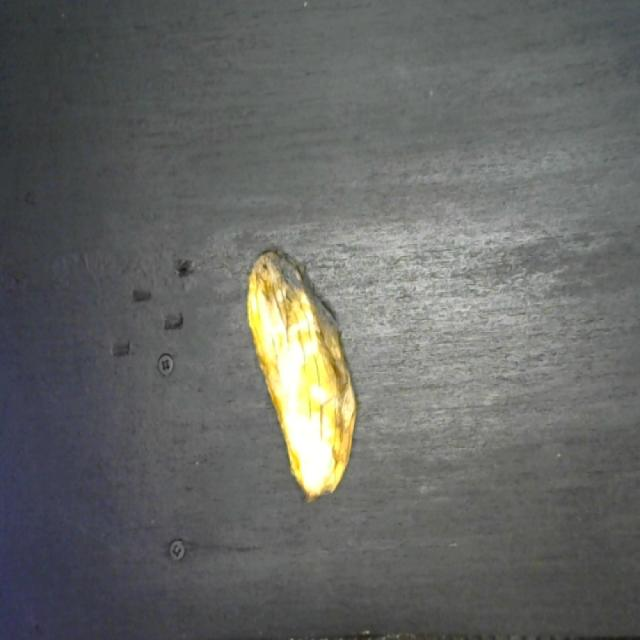biodegradable: (244, 241, 360, 508)
